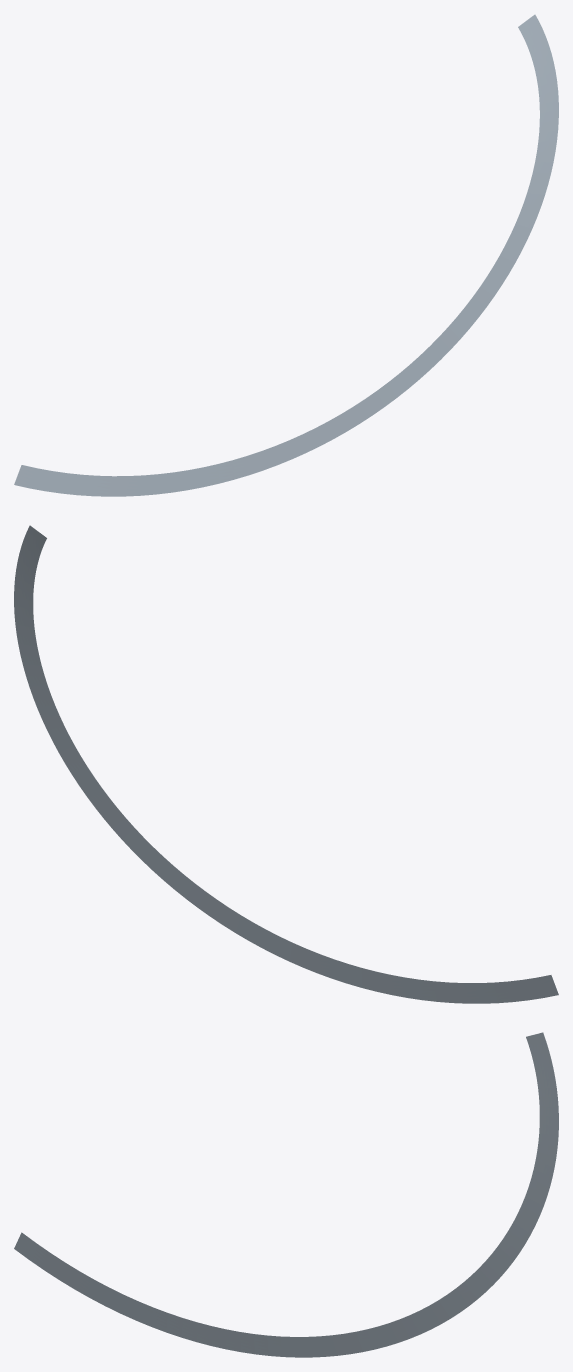
File: Sucrose_AstableAnemohypostasisCreation_ThreeTargets_GatheringWind_35_5.fbx
3 renders of one model, top to bottom at view 1: azimuth 30°, elevation 25°; view 2: azimuth 150°, elevation 25°; view 3: azimuth 330°, elevation 25°, orthographic.
Visible parts, largest first — view 1: PART_GatheringWind_35_5; view 2: PART_GatheringWind_35_5; view 3: PART_GatheringWind_35_5.
Part boxes in pixels (<box>): PART_GatheringWind_35_5: <box>14,14,558,496</box>; PART_GatheringWind_35_5: <box>14,525,558,1003</box>; PART_GatheringWind_35_5: <box>14,1032,558,1357</box>.
Size of the model in its own units: 290 by 197 by 7.87.
